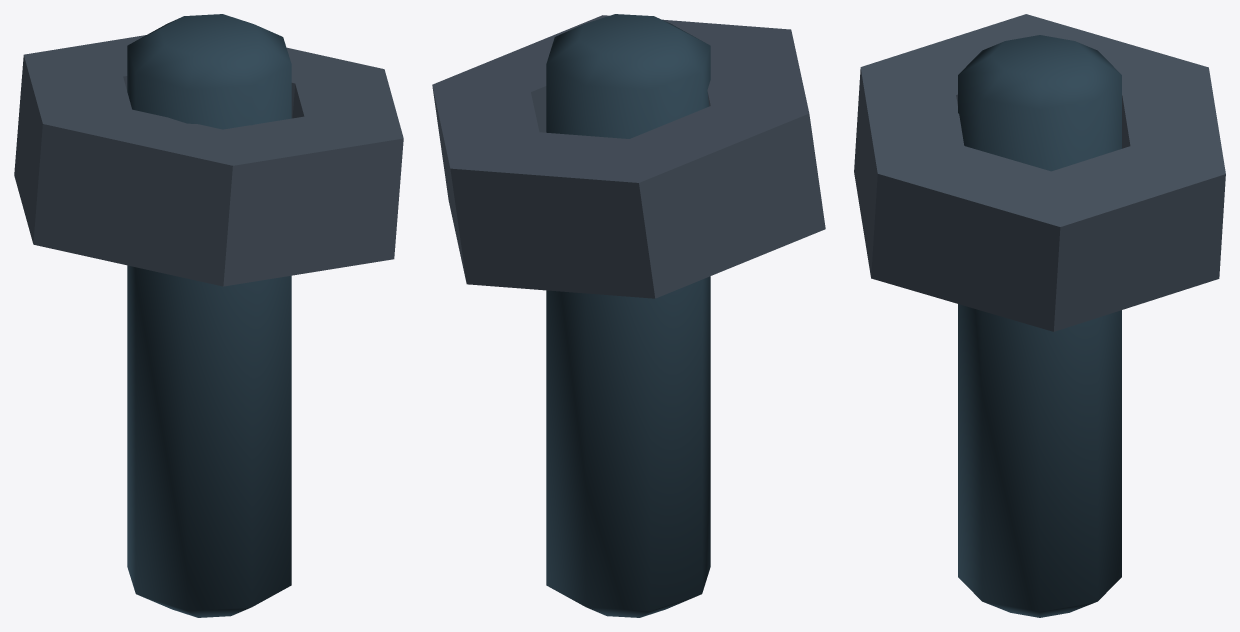
Rendered from parafuso_002.fbx.
3 views of the same model, side by side, from view 1: azimuth 30°, elevation 25°; view 2: azimuth 150°, elevation 25°; view 3: azimuth 270°, elevation 25° (orthographic). The views are drawn at different scales.
Visible parts, largest first — view 1: parafuso_002; view 2: parafuso_002; view 3: parafuso_002.
Boxes of the visible parts, left/top/right/bottom form: parafuso_002: left=14, top=14, right=403, bottom=617; parafuso_002: left=432, top=14, right=825, bottom=617; parafuso_002: left=854, top=14, right=1225, bottom=617.
Bounding box in the file's own units: 42.58 × 61.79 × 38.25.
